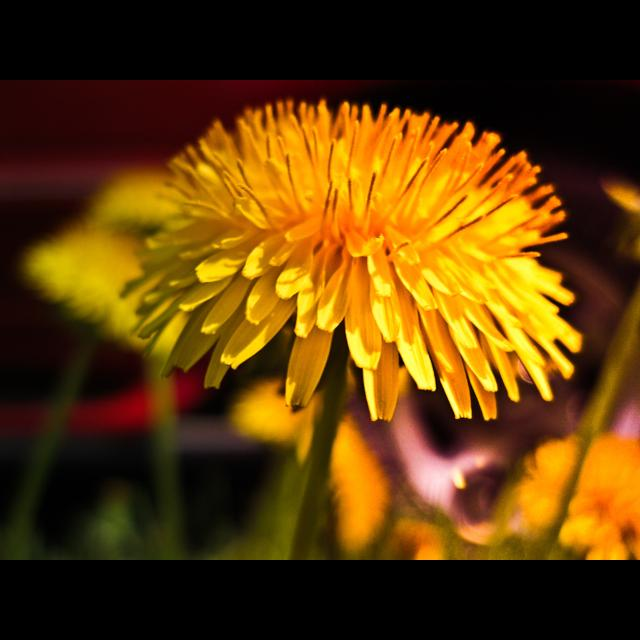Flower: (130, 103, 586, 410), (20, 215, 184, 361), (555, 430, 639, 560), (326, 419, 396, 559), (236, 376, 320, 466), (96, 165, 192, 229)
